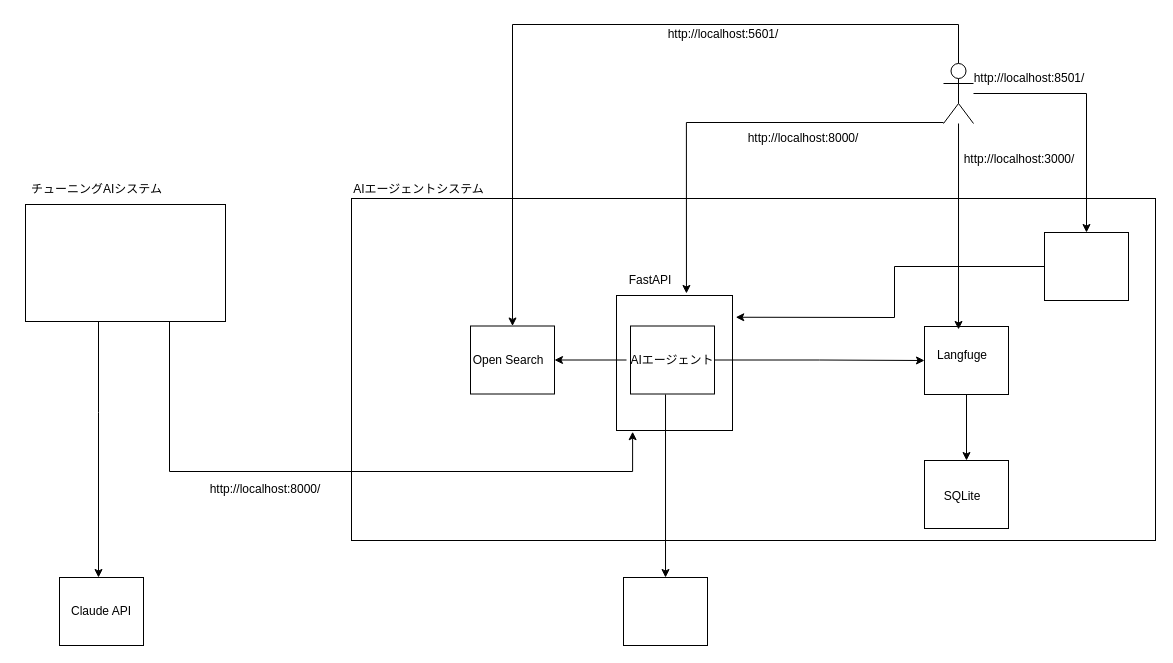
This 1173x663 diagram has some shape labels left out. Here are the shapes that lost their labels. From the top down, the box of each, then its label:
(1044, 232, 1128, 300): streamli-ui
(622, 576, 708, 646): Open AI API
